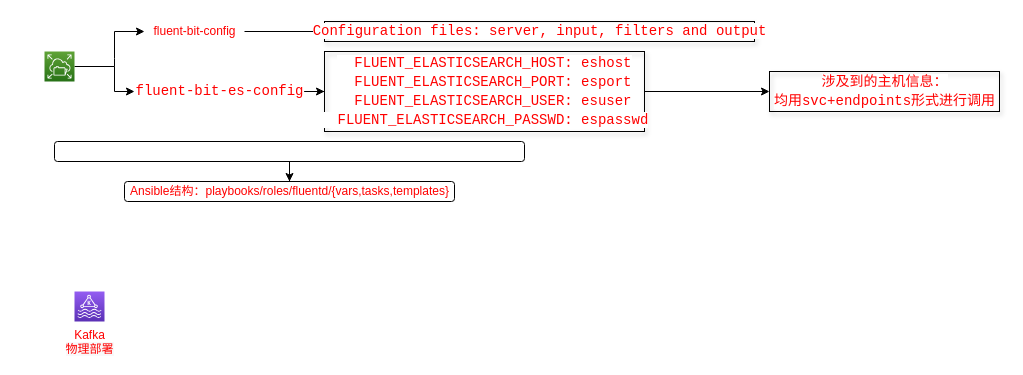
Some shapes in this 1023 by 375 pixel diagram are drawn without their labels. The shapes that lost their labels are listed below. From the top down, each one's centre as x and y in pixels, then its label:
the point at 59,66: fluent-bit DaemonSet
the point at 289,151: 整体思路：准备完毕yaml文件，放到一个yaml里面，使用变量的方式进行统一配置管理
